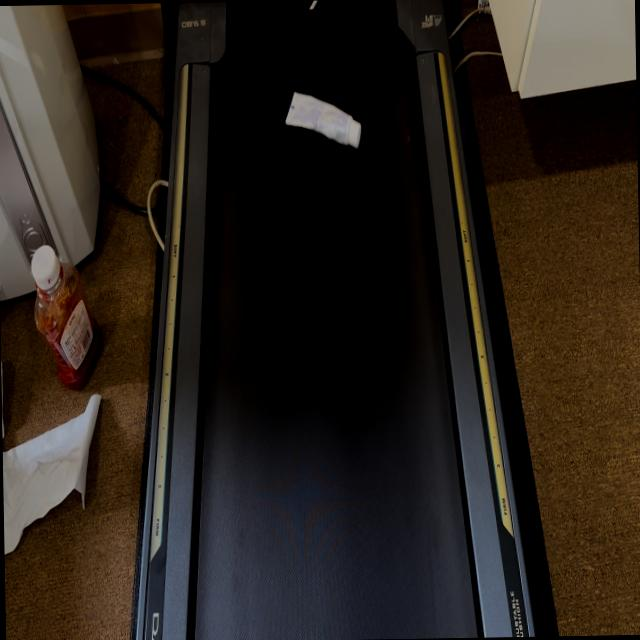Trash: (286, 80, 366, 158)
